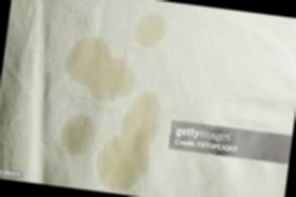oil: (100, 91, 161, 188), (66, 42, 139, 96), (57, 116, 99, 150), (131, 9, 167, 47)
